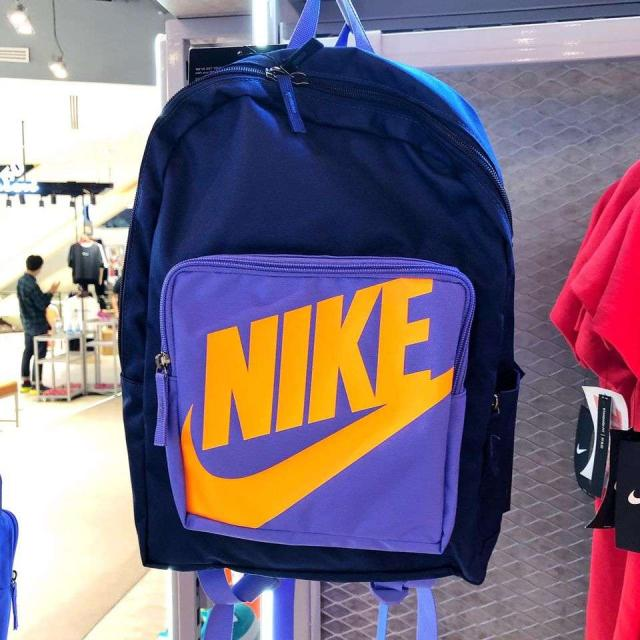handbag: (114, 39, 523, 582)
